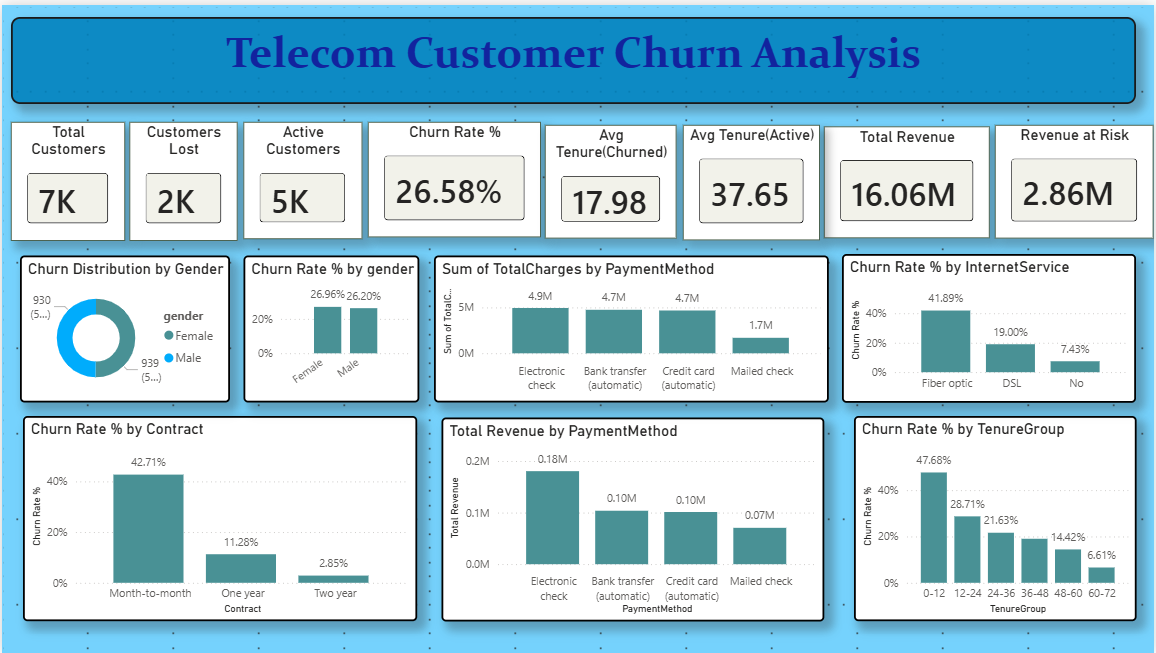

The page's visual inventory and layout, read from the dashboard file:
{"tool":"powerbi","page":{"name":"Page 1","canvas":[1280,720],"ordinal":0},"visuals":[{"type":"textbox","box":[10,13.3,1250,96.7],"z":0},{"type":"cardVisual","title":"Total Revenue","fields":{"Data":["Sum(Sheet1.TotalCharges)"]},"box":[914,135.1,184,124],"z":1000},{"type":"cardVisual","title":"Total Customers","fields":{"Data":["Sheet1.Total Customers"]},"box":[10,130,126.7,131.7],"z":2000},{"type":"cardVisual","title":"Customers Lost","fields":{"Data":["Sheet1.Customers Lost"]},"box":[141.7,130,120,131.7],"z":3000},{"type":"cardVisual","title":"Active Customers","fields":{"Data":["Sheet1.Active Customers"]},"box":[268.3,130,131.7,130],"z":4000},{"type":"cardVisual","title":"Churn Rate %","fields":{"Data":["Sheet1.Churn Rate %"]},"box":[406,130.6,192,128],"z":5000},{"type":"cardVisual","title":"Avg Tenure(Churned)","fields":{"Data":["Sheet1.AvgTenure(Churned)"]},"box":[604,133.5,146,126],"z":6000},{"type":"cardVisual","title":"Avg Tenure(Active)","fields":{"Data":["Sheet1.AvgTenure(Active)"]},"box":[756,132.9,152,128],"z":7000},{"type":"clusteredColumnChart","fields":{"Category":["Sheet1.Contract"],"Y":["Sheet1.Churn Rate %"]},"box":[24,456,438,228],"z":8000},{"type":"clusteredColumnChart","fields":{"Category":["Sheet1.TenureGroup"],"Y":["Sheet1.Churn Rate %"]},"box":[946,456,314,228],"z":9000},{"type":"clusteredColumnChart","fields":{"Category":["Sheet1.PaymentMethod"],"Y":["Sheet1.Total Revenue"]},"box":[488.3,458.3,425,226.7],"z":10000},{"type":"clusteredColumnChart","fields":{"Category":["Sheet1.PaymentMethod"],"Y":["Sum(Sheet1.TotalCharges)"]},"box":[480,278.3,438.3,163.3],"z":11000},{"type":"cardVisual","title":"Revenue at Risk","fields":{"Data":["Sheet1.Revenue at Risk"]},"box":[1104,133.3,176,126],"z":12000},{"type":"donutChart","title":"Churn Distribution by Gender","fields":{"Y":["Sheet1.Customers Lost"],"Category":["Sheet1.gender"]},"box":[20,278.3,233.3,163.3],"z":13000},{"type":"clusteredColumnChart","fields":{"Category":["Sheet1.gender"],"Y":["Sheet1.Churn Rate %"]},"box":[268.3,278.3,195,163.3],"z":14000},{"type":"clusteredColumnChart","fields":{"Category":["Sheet1.InternetService"],"Y":["Sheet1.Churn Rate %"]},"box":[933.3,276.7,326.7,165],"z":15000}]}

Visuals, with their boxes in screenshot pixels (x1, y1, x2, y2), scaled from the page's 1280x720 canvas onto the 1156x653 screenshot:
textbox: <region>9, 12, 1138, 100</region>
"Total Revenue" cardVisual: <region>825, 123, 992, 235</region>
"Total Customers" cardVisual: <region>9, 118, 123, 237</region>
"Customers Lost" cardVisual: <region>128, 118, 236, 237</region>
"Active Customers" cardVisual: <region>242, 118, 361, 236</region>
"Churn Rate %" cardVisual: <region>367, 118, 540, 235</region>
"Avg Tenure(Churned)" cardVisual: <region>545, 121, 677, 235</region>
"Avg Tenure(Active)" cardVisual: <region>683, 121, 820, 237</region>
clusteredColumnChart - Sheet1.Contract x Sheet1.Churn Rate %: <region>22, 414, 417, 620</region>
clusteredColumnChart - Sheet1.TenureGroup x Sheet1.Churn Rate %: <region>854, 414, 1138, 620</region>
clusteredColumnChart - Sheet1.PaymentMethod x Sheet1.Total Revenue: <region>441, 416, 825, 621</region>
clusteredColumnChart - Sheet1.PaymentMethod x Sum(Sheet1.TotalCharges): <region>434, 252, 829, 401</region>
"Revenue at Risk" cardVisual: <region>997, 121, 1155, 235</region>
"Churn Distribution by Gender" donutChart: <region>18, 252, 229, 401</region>
clusteredColumnChart - Sheet1.gender x Sheet1.Churn Rate %: <region>242, 252, 418, 401</region>
clusteredColumnChart - Sheet1.InternetService x Sheet1.Churn Rate %: <region>843, 251, 1138, 401</region>
